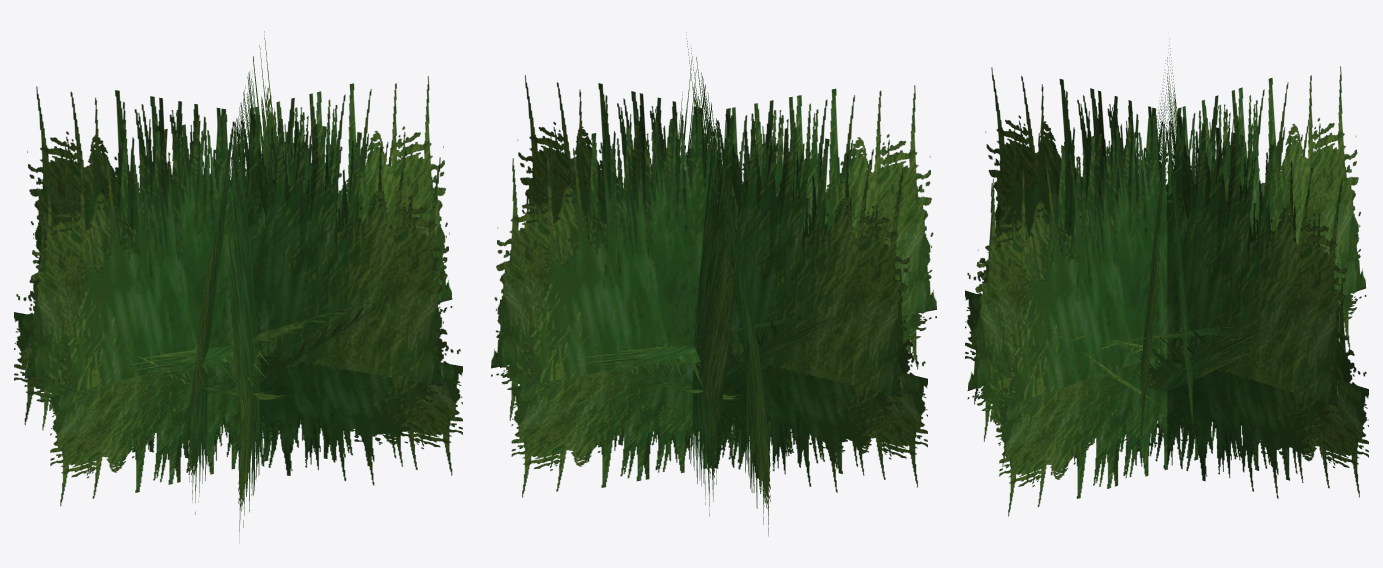
The model's file is pm-grass-04.glb.
The picture shows the model from 3 angles, left to right: view 1: azimuth 30°, elevation 25°; view 2: azimuth 150°, elevation 25°; view 3: azimuth 270°, elevation 25°; orthographic projection.
Visible parts, largest first — view 1: Grass04; view 2: Grass04; view 3: Grass04.
Boxes of the visible parts, <box> form: Grass04: <box>14,31,462,535</box>; Grass04: <box>491,32,936,536</box>; Grass04: <box>965,39,1368,516</box>.
Bounding box in the file's own units: 2.68 × 2.19 × 2.33.
Materials: 1 (1 with a texture image).
